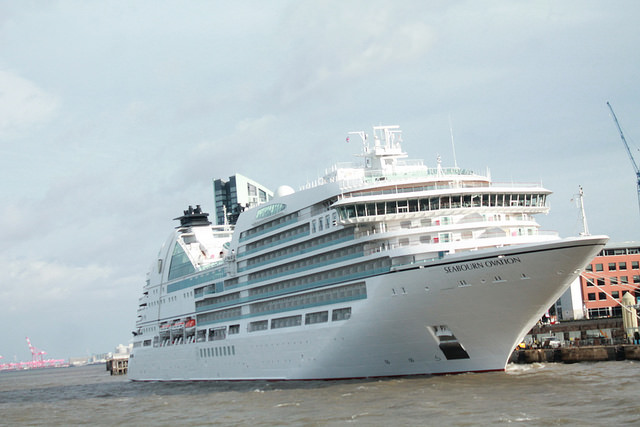cruise_ship: (128, 125, 608, 385)
